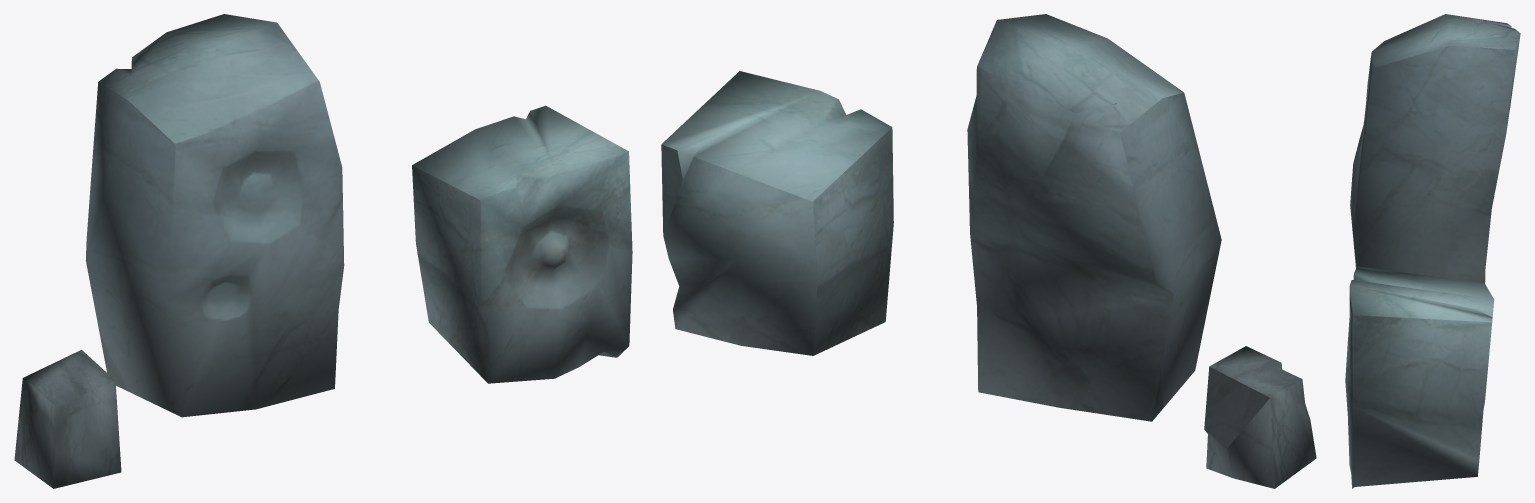
File: speaker_rocks_01.fbx
The picture shows the model from 3 angles, left to right: view 1: azimuth 30°, elevation 25°; view 2: azimuth 150°, elevation 25°; view 3: azimuth 270°, elevation 25°; orthographic projection. The views are drawn at different scales.
Parts seen in each view (by area): view 1: speaker_rock_1, speaker_rock_2, speaker_rock_3; view 2: speaker_rock_1, speaker_rock_2, speaker_rock_3; view 3: speaker_rock_1, speaker_rock_2.
Boxes of the visible parts, bbox=[...] form: speaker_rock_1: bbox=[85, 14, 344, 417]; speaker_rock_2: bbox=[412, 105, 632, 383]; speaker_rock_3: bbox=[14, 350, 121, 488]; speaker_rock_1: bbox=[967, 14, 1221, 421]; speaker_rock_2: bbox=[661, 71, 893, 355]; speaker_rock_3: bbox=[1204, 346, 1316, 488]; speaker_rock_1: bbox=[1350, 14, 1520, 283]; speaker_rock_2: bbox=[1345, 266, 1494, 488].
Size of the model in its own units: 5.62 by 3.59 by 1.72.
